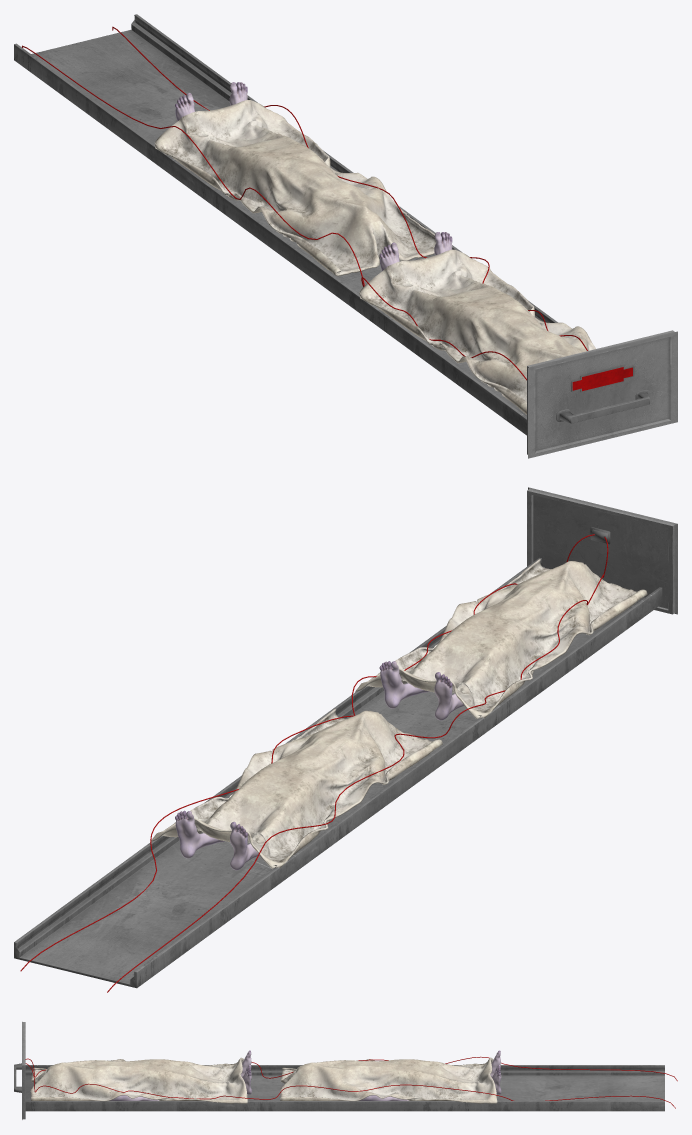
Rendered from szuflada_cz.glb.
3 views of the same model, one above another, from view 1: azimuth 30°, elevation 25°; view 2: azimuth 150°, elevation 25°; view 3: azimuth 270°, elevation 25° (orthographic). The views are drawn at different scales.
Visible parts, largest first — view 1: Plane.033, Plane.002, Plane.001, Plane.027, BézierCurve.004, Cube.067, Plane.032, FinalBaseMesh.002, FinalBaseMesh.003, BézierCurve.005; view 2: Plane.033, Plane.002, Plane.001, Plane.027, FinalBaseMesh.002, FinalBaseMesh.003, BézierCurve.004, BézierCurve.005; view 3: Plane.033, Plane.002, Plane.001, BézierCurve.005, FinalBaseMesh.002, FinalBaseMesh.003, BézierCurve.004, Plane.027.
Boxes of the visible parts, x1=… form: Plane.033: x1=14, y1=14, x2=557, y2=435; Plane.002: x1=154, y1=100, x2=436, y2=276; Plane.001: x1=359, y1=249, x2=595, y2=414; Plane.027: x1=527, y1=330, x2=677, y2=458; BézierCurve.004: x1=22, y1=45, x2=526, y2=380; Cube.067: x1=559, y1=392, x2=649, y2=423; Plane.032: x1=572, y1=367, x2=632, y2=391; FinalBaseMesh.002: x1=379, y1=232, x2=452, y2=271; FinalBaseMesh.003: x1=175, y1=82, x2=247, y2=121; BézierCurve.005: x1=112, y1=26, x2=587, y2=350; Plane.033: x1=14, y1=557, x2=662, y2=988; Plane.002: x1=151, y1=708, x2=442, y2=868; Plane.001: x1=355, y1=559, x2=647, y2=718; Plane.027: x1=527, y1=487, x2=677, y2=614; FinalBaseMesh.002: x1=379, y1=634, x2=578, y2=720; FinalBaseMesh.003: x1=175, y1=784, x2=373, y2=870; BézierCurve.004: x1=107, y1=537, x2=608, y2=992; BézierCurve.005: x1=20, y1=534, x2=594, y2=971; Plane.033: x1=25, y1=1065, x2=664, y2=1111; Plane.002: x1=280, y1=1057, x2=497, y2=1103; Plane.001: x1=30, y1=1057, x2=247, y2=1103; BézierCurve.005: x1=25, y1=1063, x2=675, y2=1108; FinalBaseMesh.002: x1=109, y1=1050, x2=251, y2=1100; FinalBaseMesh.003: x1=359, y1=1050, x2=501, y2=1100; BézierCurve.004: x1=25, y1=1056, x2=677, y2=1081; Plane.027: x1=22, y1=1021, x2=25, y2=1119.
Size of the model in its own units: 6.34 by 3.67 by 39.91.
Materials: 5 (5 with a texture image).
